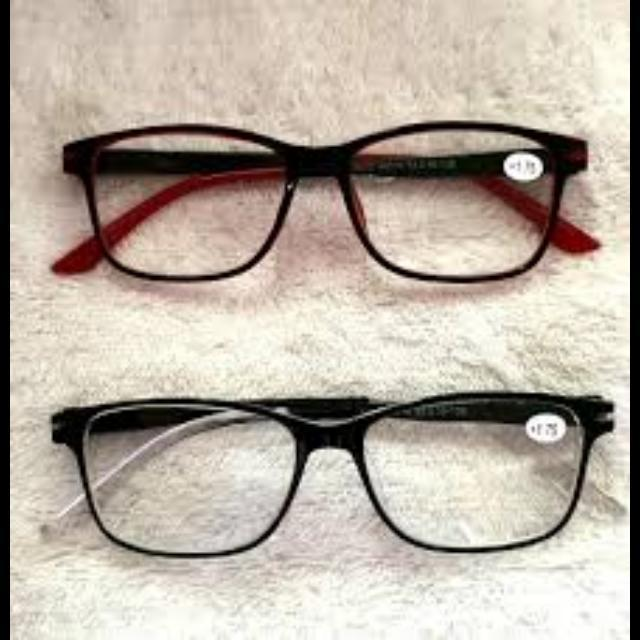glasses: (44, 388, 630, 558), (58, 120, 610, 284)
